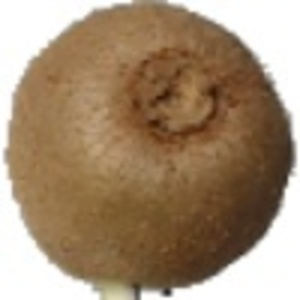kiwi: (4, 1, 298, 300)
